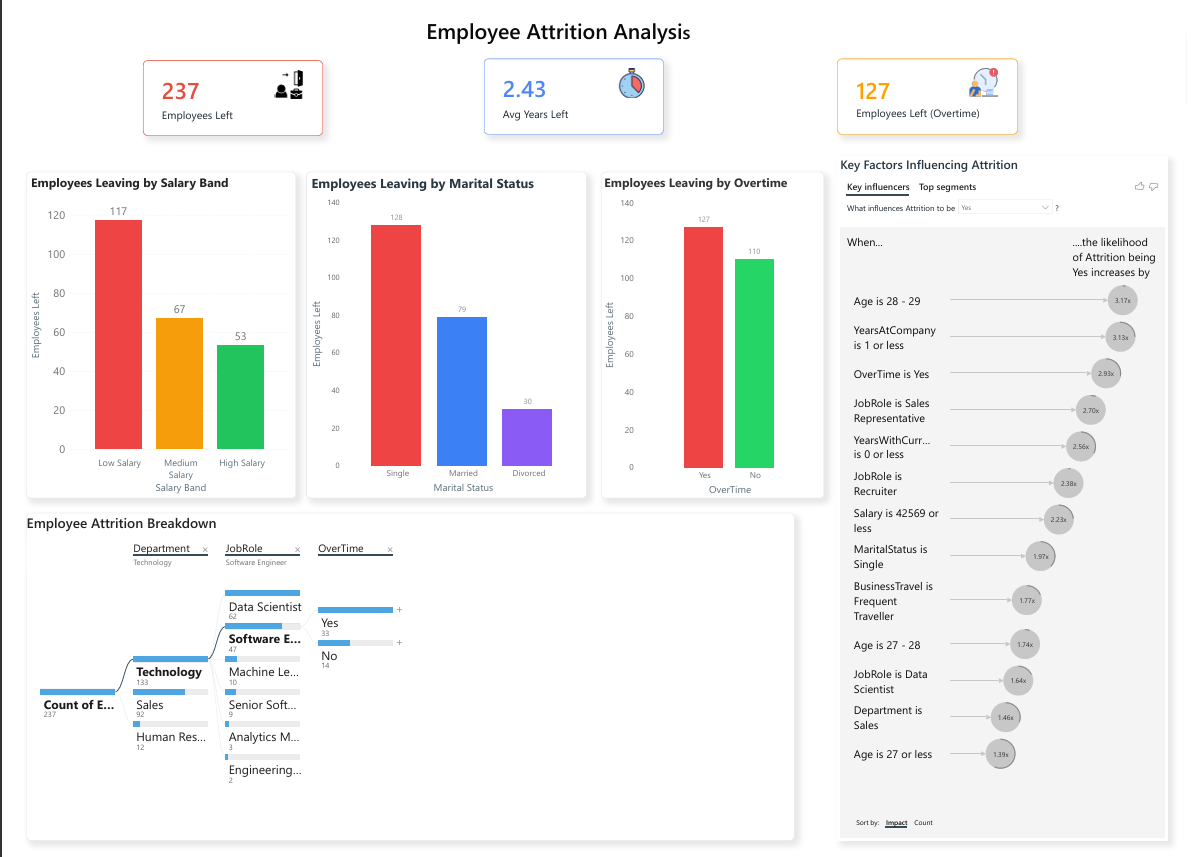

What the dashboard file says about the page in this screenshot:
{"tool":"powerbi","page":{"name":"Employee Attrition Analysis","canvas":[2050,1476],"ordinal":1},"visuals":[{"type":"cardVisual","fields":{"Data":["Employee.Employees Left"]},"box":[223.1,82.7,315,132],"z":0},{"type":"image","box":[448.7,100.3,60.2,50.1],"z":1000},{"type":"cardVisual","fields":{"Data":["Employee.Avg Years Left"]},"box":[819.7,80.2,315,132.9],"z":2000},{"type":"image","box":[1050.4,97.8,57.7,52.6],"z":3000},{"type":"textbox","box":[714.4,0,518.9,65.2],"z":4000},{"type":"cardVisual","fields":{"Data":["Employee.Employees Left (Overtime)"]},"box":[1438.9,80.2,315.9,132.9],"z":5000},{"type":"image","box":[1659.5,95.3,70.2,52.6],"z":6000},{"type":"clusteredColumnChart","title":"Employees Leaving by Overtime","fields":{"Category":["Employee.OverTime"],"Y":["CountNonNull(Employee.EmployeeID)"]},"box":[1025.3,278.3,391.1,571.6],"z":7000},{"type":"clusteredColumnChart","title":"Employees Leaving by Marital Status","fields":{"Category":["Employee.MaritalStatus"],"Y":["CountNonNull(Employee.EmployeeID)"]},"box":[508.9,278.3,491.3,571.6],"z":8000},{"type":"clusteredColumnChart","title":"Employees Leaving by Salary Band","fields":{"Category":["Employee.Salary Band"],"Y":["CountNonNull(Employee.EmployeeID)"]},"box":[17.5,278.3,473.8,571.6],"z":9000},{"type":"keyDriversVisual","title":"Key Factors Influencing Attrition","fields":{"Target":["Employee.Attrition"],"ExplainBy":["Employee.Age","Employee.Salary","Employee.Department","Employee.JobRole","Employee.BusinessTravel","Employee.DistanceFromHome (KM)","Employee.MaritalStatus","Employee.OverTime","Employee.YearsAtCompany","Employee.YearsWithCurrManager"]},"box":[1438.9,250.7,579.1,1198.3],"z":10000},{"type":"decompositionTreeVisual","title":"Employee Attrition Breakdown","fields":{"Analyze":["CountNonNull(Employee.EmployeeID)"],"ExplainBy":["Employee.Department","Employee.JobRole","Employee.OverTime","Employee.BusinessTravel","Employee.MaritalStatus","Employee.Salary Band","Employee.YearsAtCompany","PerformanceRating.WorkLifeBalance"]},"box":[17.5,874.9,1346.2,574.1],"z":11000}]}

Visuals, with their boxes in screenshot pixels (x1, y1, x2, y2), scaled from the page's 2050x1476 canvas onto the 1197x857 screenshot:
cardVisual - Employee.Employees Left: region(130, 48, 314, 125)
image: region(262, 58, 297, 87)
cardVisual - Employee.Avg Years Left: region(479, 47, 663, 124)
image: region(613, 57, 647, 87)
textbox: region(417, 0, 720, 38)
cardVisual - Employee.Employees Left (Overtime): region(840, 47, 1025, 124)
image: region(969, 55, 1010, 86)
"Employees Leaving by Overtime" clusteredColumnChart: region(599, 162, 827, 493)
"Employees Leaving by Marital Status" clusteredColumnChart: region(297, 162, 584, 493)
"Employees Leaving by Salary Band" clusteredColumnChart: region(10, 162, 287, 493)
"Key Factors Influencing Attrition" keyDriversVisual: region(840, 146, 1178, 841)
"Employee Attrition Breakdown" decompositionTreeVisual: region(10, 508, 796, 841)
